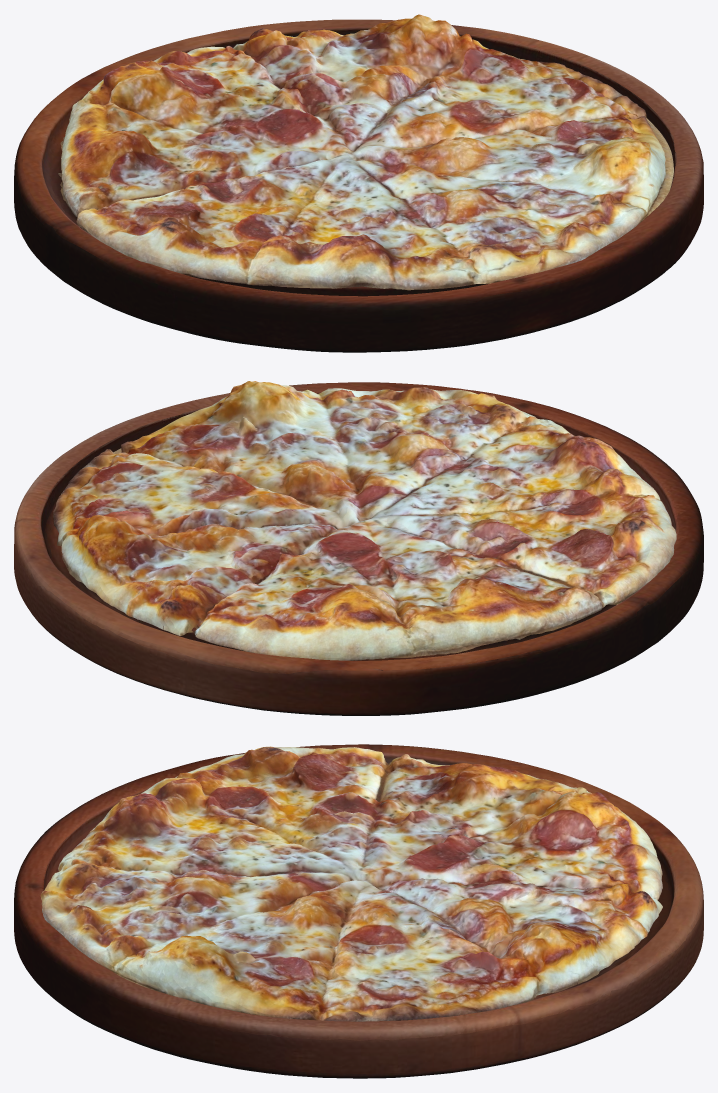
Rendered from Minor.pizza.glb.
3 views of the same model, one above another, from view 1: azimuth 30°, elevation 25°; view 2: azimuth 150°, elevation 25°; view 3: azimuth 270°, elevation 25° (orthographic).
Parts seen in each view (by area): view 1: object 1, world; view 2: object 1, world; view 3: object 1, world.
Boxes of the visible parts, x1=… form: object 1: x1=58, y1=14, x2=673, y2=290; world: x1=14, y1=19, x2=703, y2=352; object 1: x1=53, y1=381, x2=676, y2=660; world: x1=14, y1=382, x2=703, y2=715; object 1: x1=40, y1=746, x2=662, y2=1021; world: x1=14, y1=744, x2=703, y2=1078.
Bounding box in the file's own units: 0.3501 × 0.0473 × 0.3501.
Materials: 3 (3 with a texture image).
